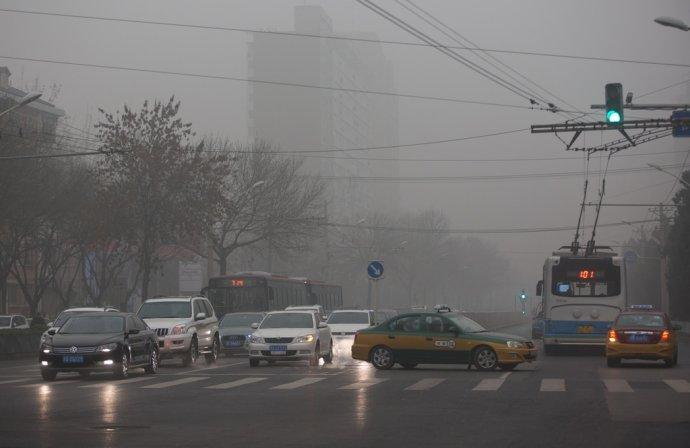bus: (200, 272, 345, 345), (535, 243, 628, 353)
car: (352, 302, 540, 373), (40, 312, 160, 378), (124, 294, 219, 363), (40, 306, 136, 362), (247, 310, 334, 366), (605, 304, 682, 367), (212, 310, 272, 356), (321, 308, 376, 354), (530, 299, 582, 339), (278, 303, 327, 342), (358, 307, 403, 345), (1, 314, 32, 340)
